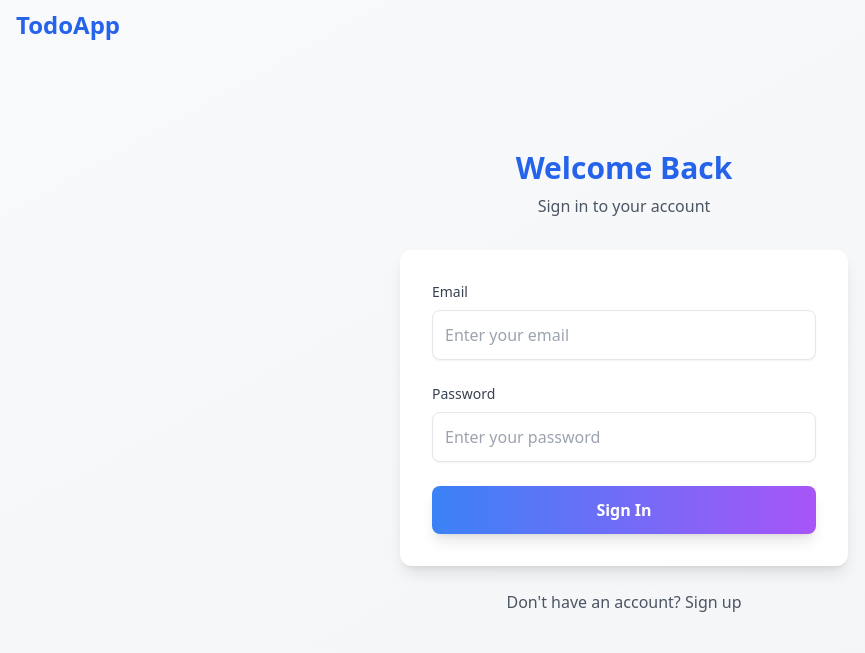
Test: LoginPage › shows validation errors for invalid input
What coordinates should you click on to do the following:
click the button "Sign In"
I would click on:
 (624, 510)
Its box is x1=432 y1=486 x2=816 y2=534.
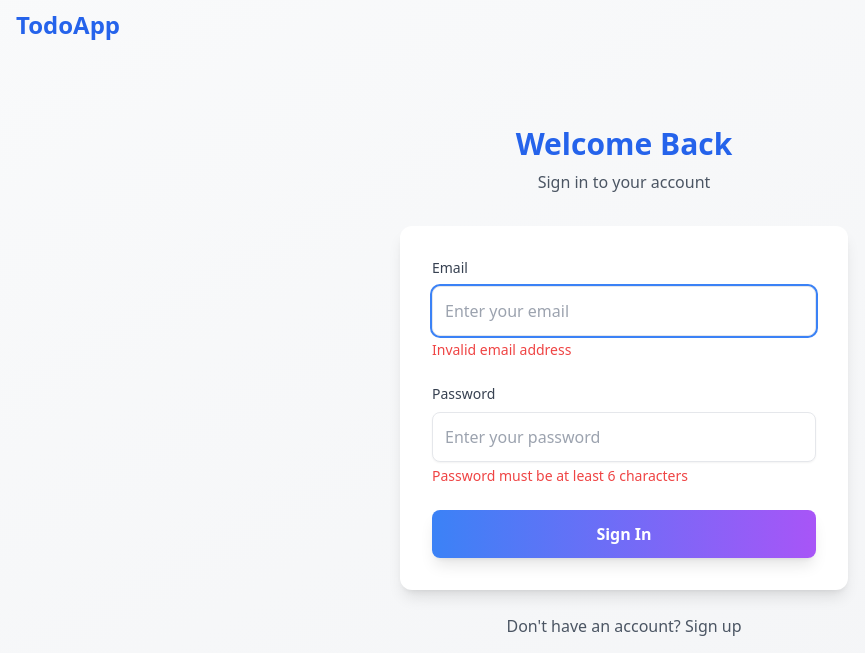
Result: the text "Invalid email address" is shown at x1=432 y1=340 x2=571 y2=359
Result: the text "Password must be at least 6 characters" is shown at x1=432 y1=466 x2=688 y2=485
